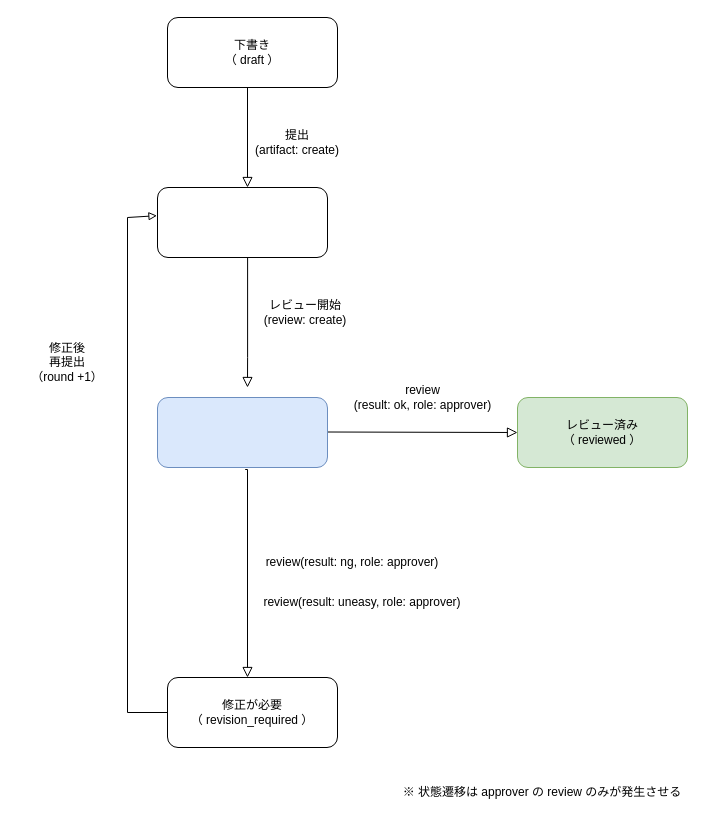
Image size: 705x825. Some labels were removed from this diagram. Each missing label, with the centre of its shape:
レビュー中 （ reviewing ）: point 242,432
レビュー待ち （ pending_review ）: point 242,222
